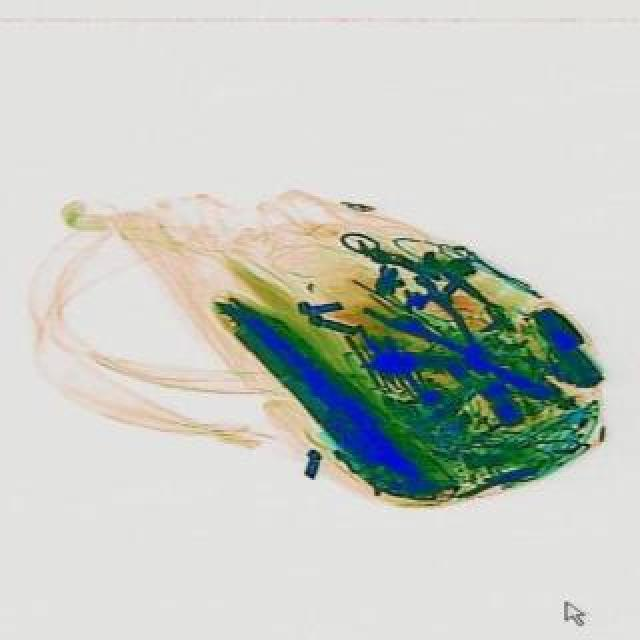wrench: (358, 258, 530, 406)
